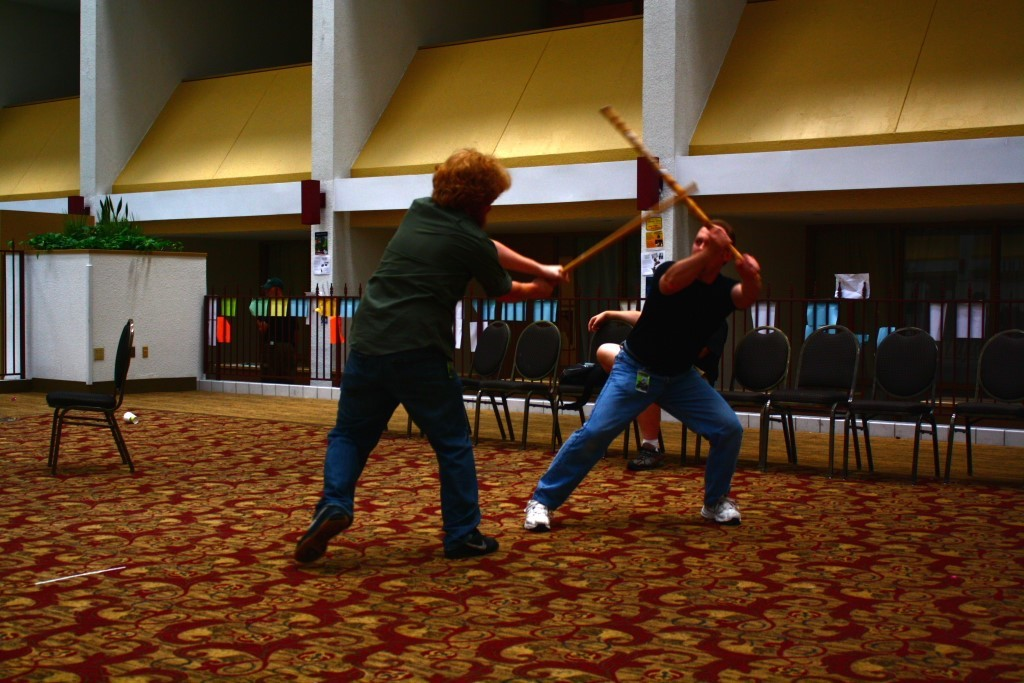baston_e: (602, 117, 745, 256), (563, 185, 687, 277)
baston_v: (593, 100, 615, 120), (685, 177, 702, 194)
